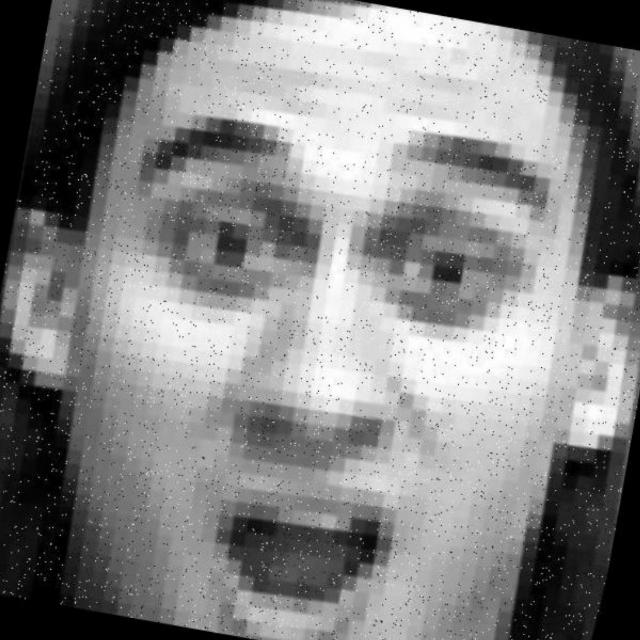Surprised: (47, 80, 609, 640)
